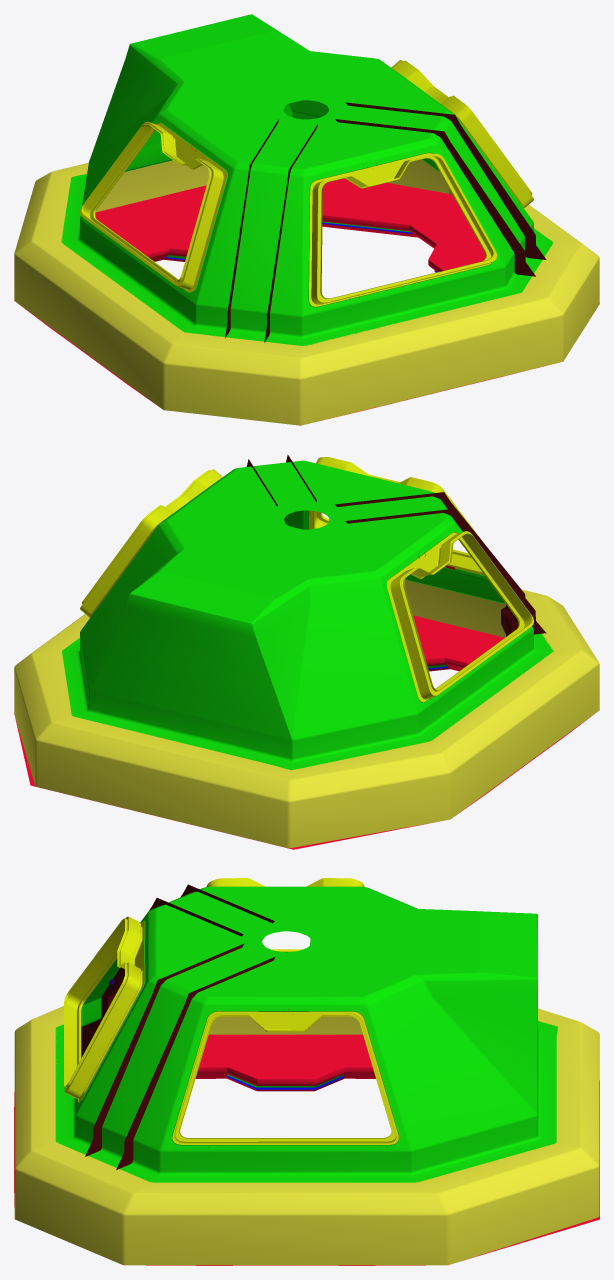
File: plafond_base.fbx
3 views of the same model, one above another, from view 1: azimuth 30°, elevation 25°; view 2: azimuth 150°, elevation 25°; view 3: azimuth 270°, elevation 25° (orthographic). The views are drawn at different scales.
Visible parts, largest first — view 1: __plafond_final_HIGH, coursive_technique, bande_led_HIGH, pillar_01, pillar_02; view 2: __plafond_final_HIGH, coursive_technique, bande_led_HIGH, pillar_02; view 3: __plafond_final_HIGH, coursive_technique, bande_led_HIGH, pillar_01, pillar_02.
Boxes of the visible parts, box(x1,y1,x2,y2) form: __plafond_final_HIGH: box(61, 14, 553, 345); coursive_technique: box(14, 159, 599, 425); bande_led_HIGH: box(14, 178, 599, 425); pillar_01: box(335, 102, 546, 276); pillar_02: box(225, 119, 317, 342); __plafond_final_HIGH: box(62, 457, 553, 770); coursive_technique: box(14, 580, 599, 848); bande_led_HIGH: box(15, 615, 599, 849); pillar_02: box(335, 492, 546, 636); __plafond_final_HIGH: box(55, 878, 557, 1182); coursive_technique: box(14, 1006, 599, 1265); bande_led_HIGH: box(14, 1034, 599, 1265); pillar_01: box(85, 943, 275, 1169); pillar_02: box(81, 884, 274, 1057).
Bounding box in the file's own units: 275 × 128 × 293.
